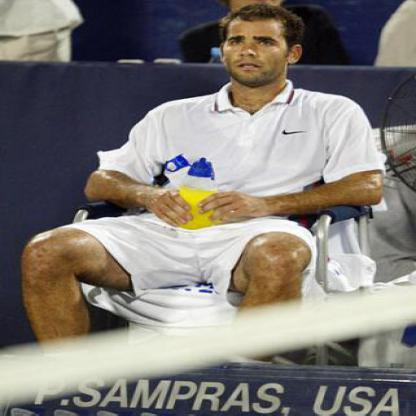face: (225, 6, 295, 87)
